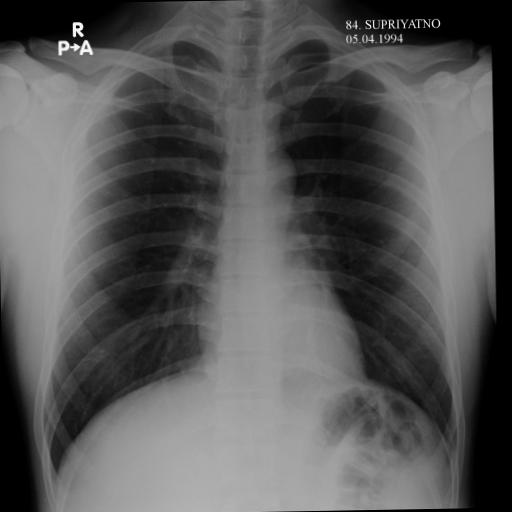normal: (26, 14, 466, 496)
